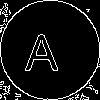A: (25, 25, 59, 71)
